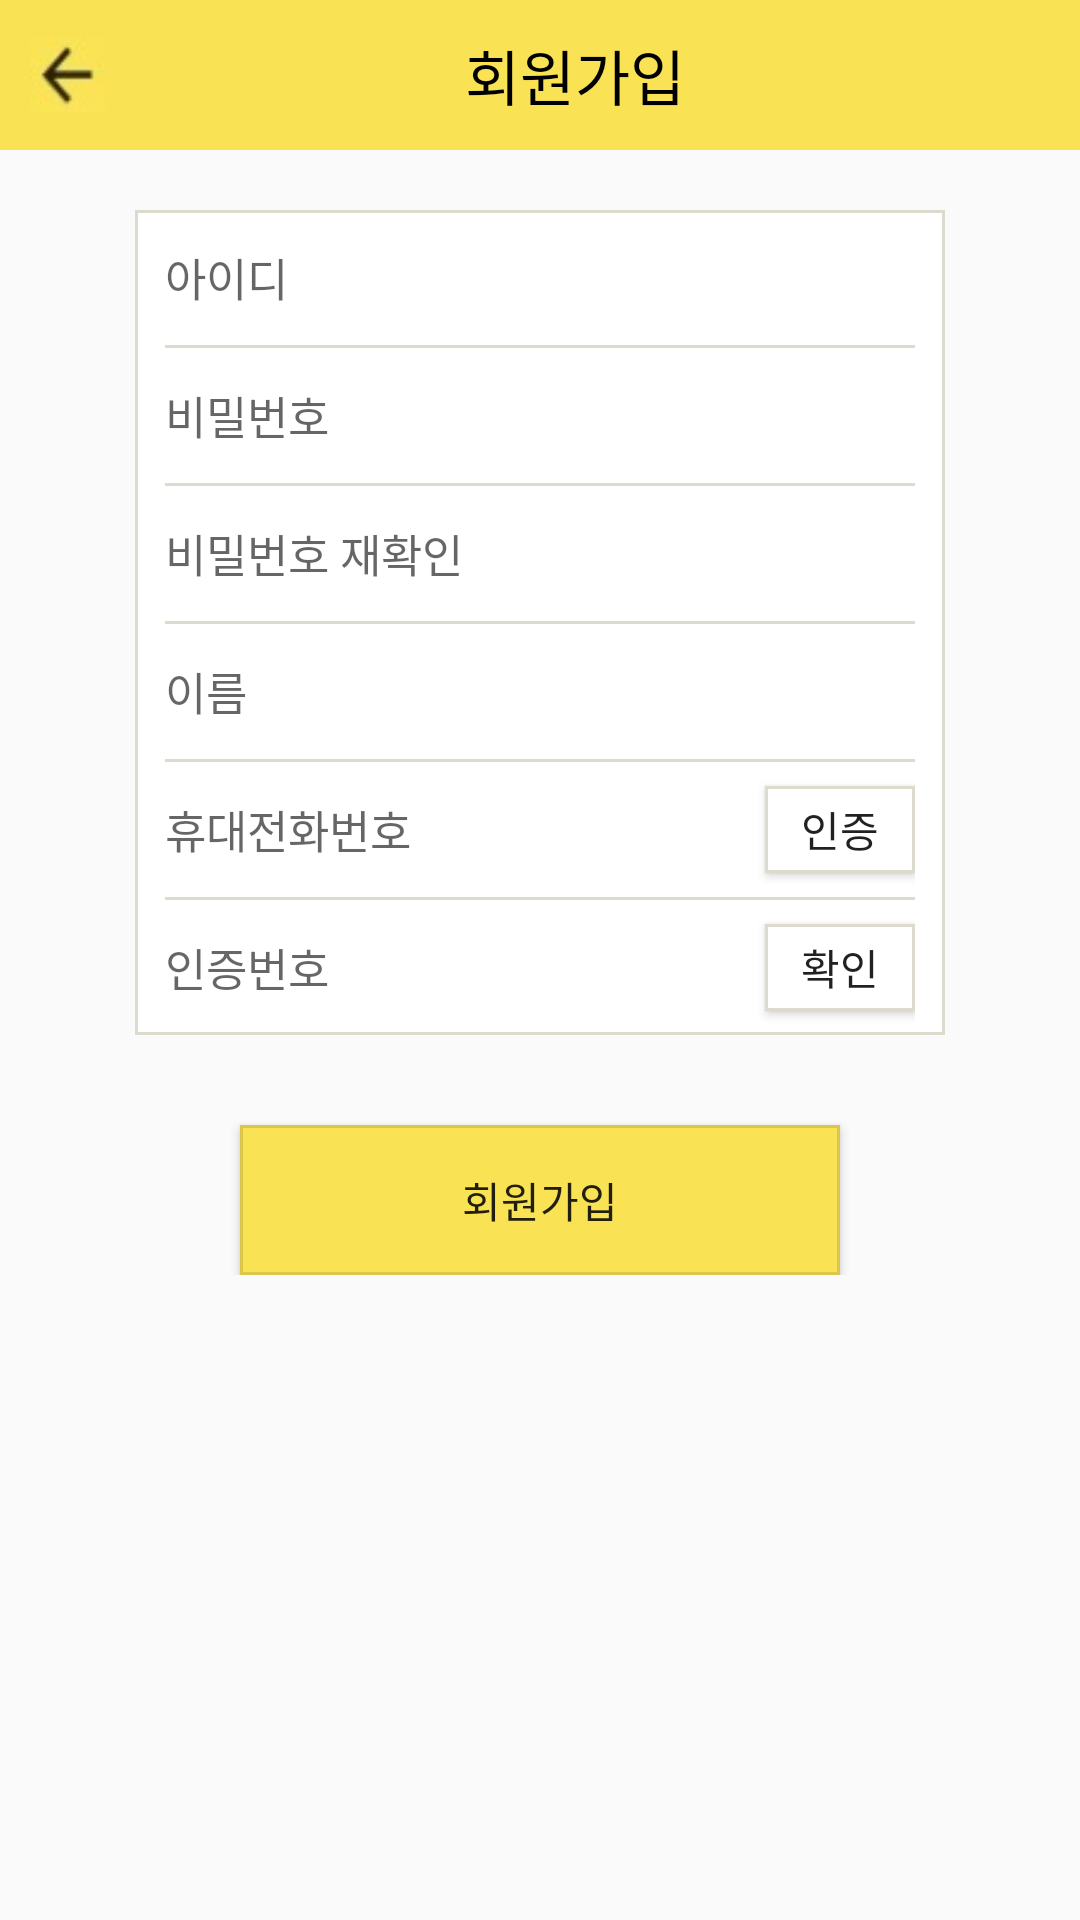

Icon click points for this 1080 x 1920 phone screenshot, format [x,y]:
back: [67,75]
